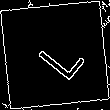L_NW: (25, 27, 85, 83)
